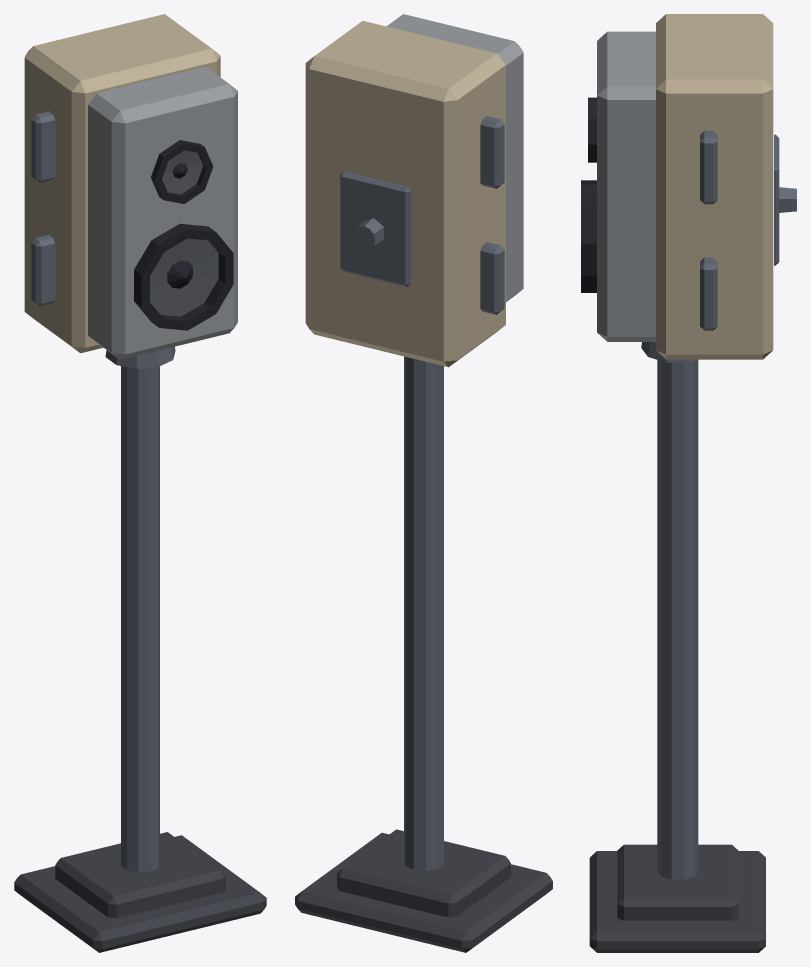
File: speaker-post-e1503d.glb
3 renders of one model, left to right at view 1: azimuth 30°, elevation 25°; view 2: azimuth 150°, elevation 25°; view 3: azimuth 270°, elevation 25°, orthographic. The views are drawn at different scales.
Parts seen in each view (by area): view 1: speaker-post-body; view 2: speaker-post-body; view 3: speaker-post-body.
Part boxes in pixels (bbox=[...]): speaker-post-body: bbox=[14, 14, 266, 952]; speaker-post-body: bbox=[295, 14, 552, 952]; speaker-post-body: bbox=[581, 14, 796, 952].
Bounding box in the file's own units: 0.296 × 1.3 × 0.2938.
